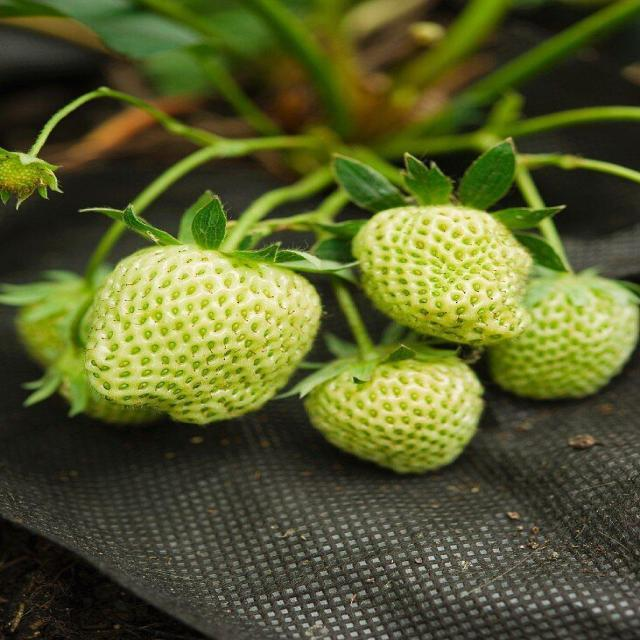Strawberry: (91, 240, 322, 426), (354, 202, 534, 346), (306, 344, 484, 472), (492, 270, 640, 400)
